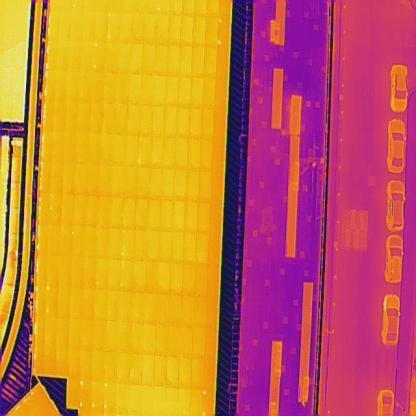Diode: (46, 42, 59, 72), (37, 224, 49, 256), (35, 285, 46, 319), (44, 72, 56, 102), (48, 10, 59, 42), (34, 318, 46, 346), (42, 132, 53, 162), (34, 346, 45, 376)
Hotspot: (46, 286, 59, 320), (92, 43, 107, 72), (90, 380, 104, 410), (49, 194, 62, 224), (79, 379, 92, 408), (107, 12, 119, 43), (43, 102, 55, 132), (217, 19, 228, 50), (39, 194, 50, 224), (40, 164, 51, 193), (105, 382, 116, 410), (203, 390, 214, 415)
Normal: (164, 356, 180, 387), (152, 356, 168, 386), (118, 291, 133, 322), (159, 199, 173, 232), (184, 202, 198, 235), (142, 294, 157, 324), (66, 70, 80, 102), (78, 102, 92, 134), (102, 102, 116, 134), (64, 132, 78, 164), (138, 136, 152, 168), (174, 138, 188, 170), (110, 166, 124, 198), (198, 170, 212, 202), (134, 198, 148, 230), (70, 10, 84, 42), (130, 292, 144, 324), (129, 322, 143, 354), (179, 326, 193, 358), (190, 358, 204, 390), (166, 44, 180, 76), (86, 194, 99, 228), (190, 77, 204, 108), (90, 103, 104, 134), (164, 107, 178, 138), (176, 107, 190, 138), (112, 135, 126, 166), (62, 164, 76, 195), (72, 195, 86, 226), (145, 231, 159, 262), (58, 255, 72, 286), (130, 12, 144, 43), (194, 265, 208, 296), (94, 289, 108, 320), (192, 16, 206, 47), (93, 320, 107, 351), (154, 325, 168, 356), (128, 353, 142, 384), (202, 359, 216, 390), (123, 197, 136, 230), (197, 202, 210, 235), (78, 72, 92, 102), (136, 168, 150, 198), (96, 228, 110, 258), (120, 230, 134, 260), (157, 232, 171, 262), (183, 233, 197, 263), (195, 234, 209, 264), (94, 12, 108, 42), (46, 255, 60, 285), (168, 295, 182, 325), (180, 295, 194, 325), (204, 18, 218, 48), (118, 322, 132, 352), (142, 324, 156, 354), (191, 328, 205, 358), (80, 350, 94, 380), (140, 355, 154, 385), (178, 358, 192, 388), (56, 42, 70, 72), (116, 43, 130, 73), (128, 44, 142, 74), (153, 46, 167, 76), (178, 46, 192, 76), (91, 70, 104, 102), (201, 108, 214, 140), (52, 132, 65, 164), (162, 138, 175, 170), (149, 168, 162, 200), (186, 170, 199, 202), (61, 194, 74, 226), (48, 224, 61, 256), (108, 228, 121, 260), (207, 234, 220, 266), (95, 258, 108, 290), (132, 260, 145, 292), (145, 262, 158, 294), (82, 288, 95, 320), (106, 290, 119, 322), (170, 233, 184, 262), (56, 319, 70, 348), (80, 41, 94, 70), (190, 48, 204, 77), (128, 74, 141, 105), (141, 74, 154, 105), (115, 104, 128, 135), (188, 108, 201, 139), (213, 109, 226, 140), (199, 139, 212, 170), (51, 162, 64, 193), (75, 164, 88, 195), (87, 164, 100, 195), (161, 169, 174, 200), (210, 171, 223, 202), (110, 197, 123, 228), (72, 225, 85, 256), (84, 226, 97, 257), (108, 260, 121, 291), (193, 296, 206, 327), (167, 325, 180, 356), (98, 195, 110, 228), (172, 200, 184, 233), (144, 11, 156, 44), (170, 262, 182, 295), (156, 13, 168, 46), (68, 42, 82, 70), (202, 79, 215, 109), (54, 102, 67, 132), (66, 102, 79, 132), (125, 136, 138, 166), (187, 139, 200, 169), (83, 10, 96, 40), (83, 258, 96, 288), (70, 288, 83, 318), (69, 320, 82, 350), (142, 44, 155, 74), (154, 74, 166, 106), (152, 106, 164, 138), (124, 166, 136, 198), (209, 202, 221, 234), (72, 256, 84, 288), (158, 262, 170, 294), (182, 264, 194, 296), (58, 286, 70, 318), (206, 296, 218, 328), (106, 322, 119, 351), (178, 77, 190, 108), (128, 104, 140, 135), (140, 105, 152, 136), (76, 133, 88, 164), (101, 134, 113, 165), (148, 200, 160, 231), (60, 225, 72, 256), (134, 230, 146, 261), (120, 260, 132, 291), (156, 294, 168, 325), (106, 42, 118, 73), (55, 72, 67, 102), (116, 73, 128, 103), (166, 76, 178, 106), (88, 134, 100, 164), (150, 138, 162, 168), (212, 140, 224, 170), (100, 166, 112, 196), (174, 170, 186, 200), (59, 10, 71, 40), (36, 255, 48, 285), (207, 266, 219, 296), (168, 16, 180, 46), (181, 16, 193, 46), (82, 320, 94, 350), (204, 328, 216, 358), (56, 346, 68, 376), (68, 348, 80, 378), (105, 352, 117, 382), (117, 352, 129, 382), (68, 377, 80, 407), (214, 79, 226, 108), (44, 346, 56, 375), (92, 351, 104, 380), (204, 49, 216, 78), (216, 50, 228, 78), (105, 72, 116, 102), (120, 13, 131, 43), (44, 320, 56, 347), (116, 384, 128, 411), (129, 385, 141, 410), (141, 385, 153, 410), (154, 386, 166, 411), (166, 387, 178, 412), (178, 388, 190, 413), (190, 389, 202, 414)
